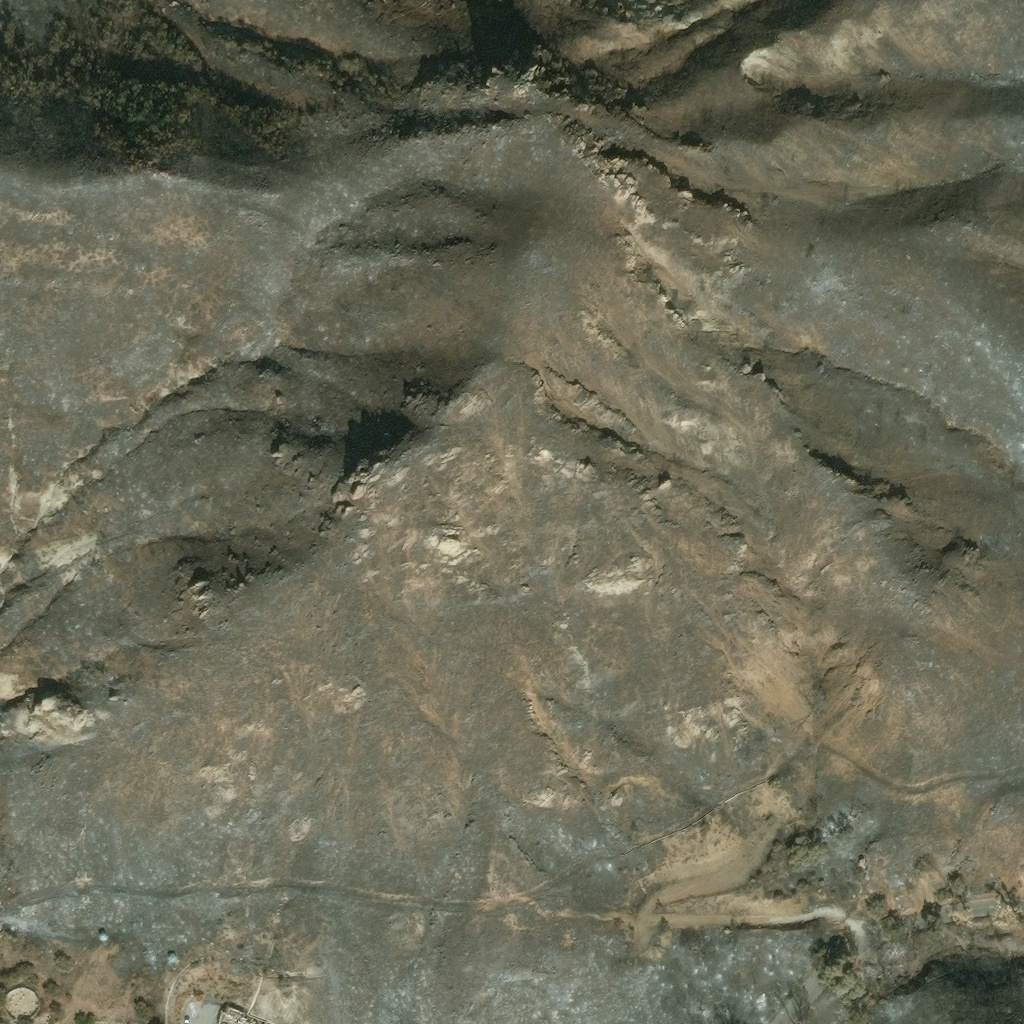3 destroyed: (217, 1005, 261, 1023), (188, 1001, 202, 1020), (167, 956, 177, 965), (99, 933, 107, 942)
